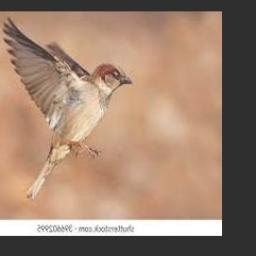Sparrow: (3, 16, 134, 199)
